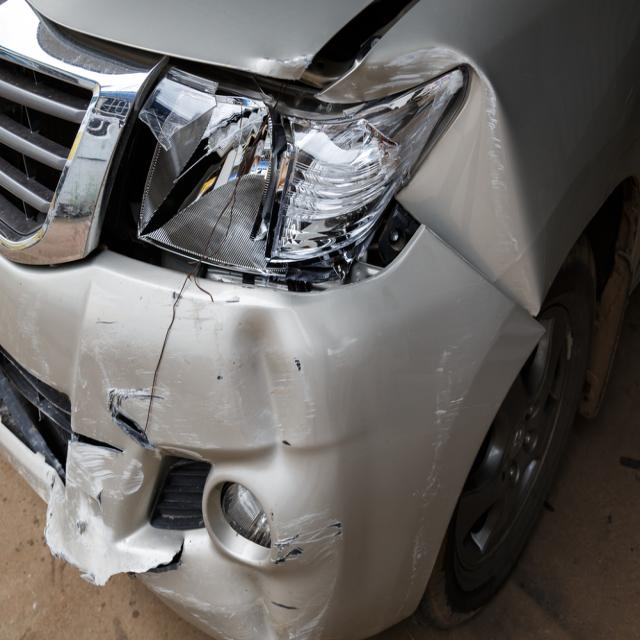Cabossage: (331, 65, 540, 344), (223, 303, 331, 533)
Dechirure: (18, 534, 198, 596), (110, 402, 157, 452), (71, 431, 125, 467)
Phare abime: (133, 65, 467, 283)
Rayure: (14, 303, 194, 500), (393, 336, 470, 612), (268, 504, 349, 633)
